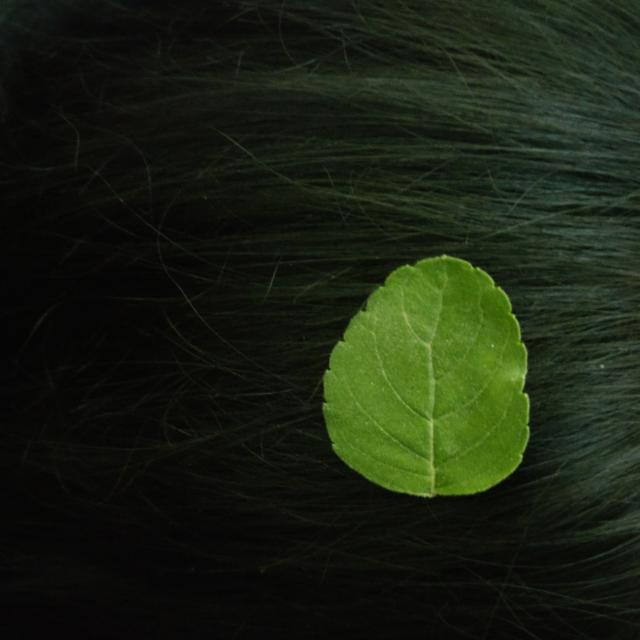leaf: (321, 253, 530, 498)
